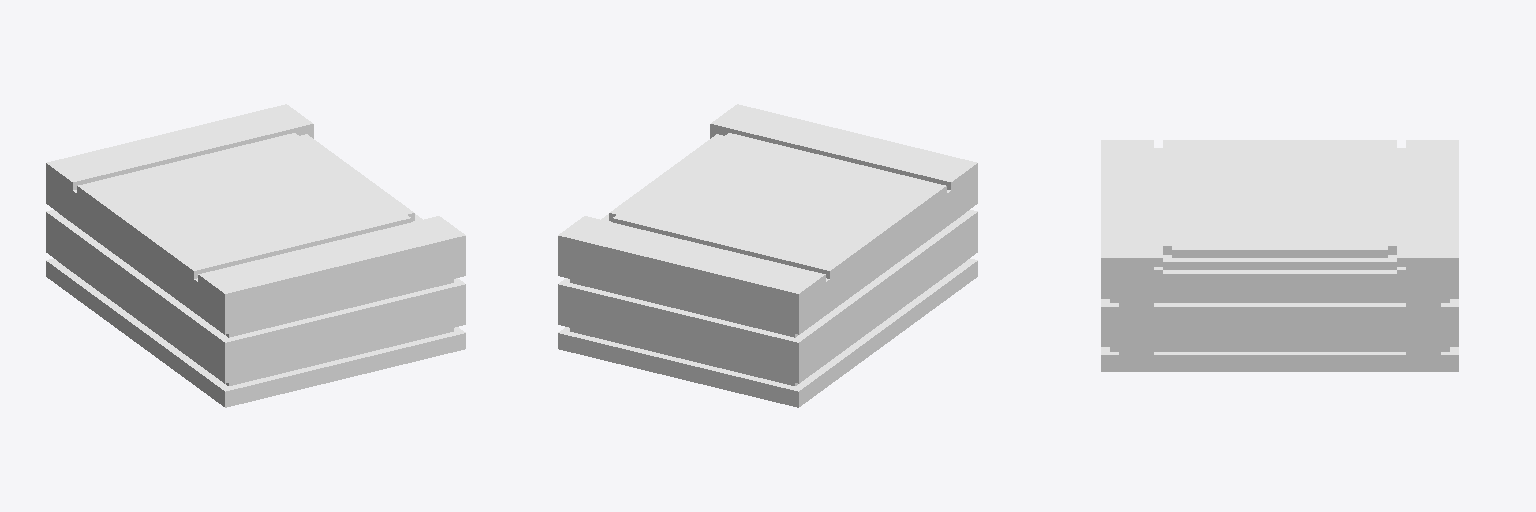
File: case.obj
The picture shows the model from 3 angles: view 1: azimuth 30°, elevation 25°; view 2: azimuth 150°, elevation 25°; view 3: azimuth 270°, elevation 25°; orthographic projection.
Parts seen in each view (by area): view 1: object 1; view 2: object 1; view 3: object 1.
Part boxes in pixels (x1,y1,x2,y2): object 1: (46, 104, 465, 407); object 1: (558, 104, 977, 407); object 1: (1101, 140, 1458, 371).
Bounding box in the file's own units: 3.1 × 1.4 × 4.